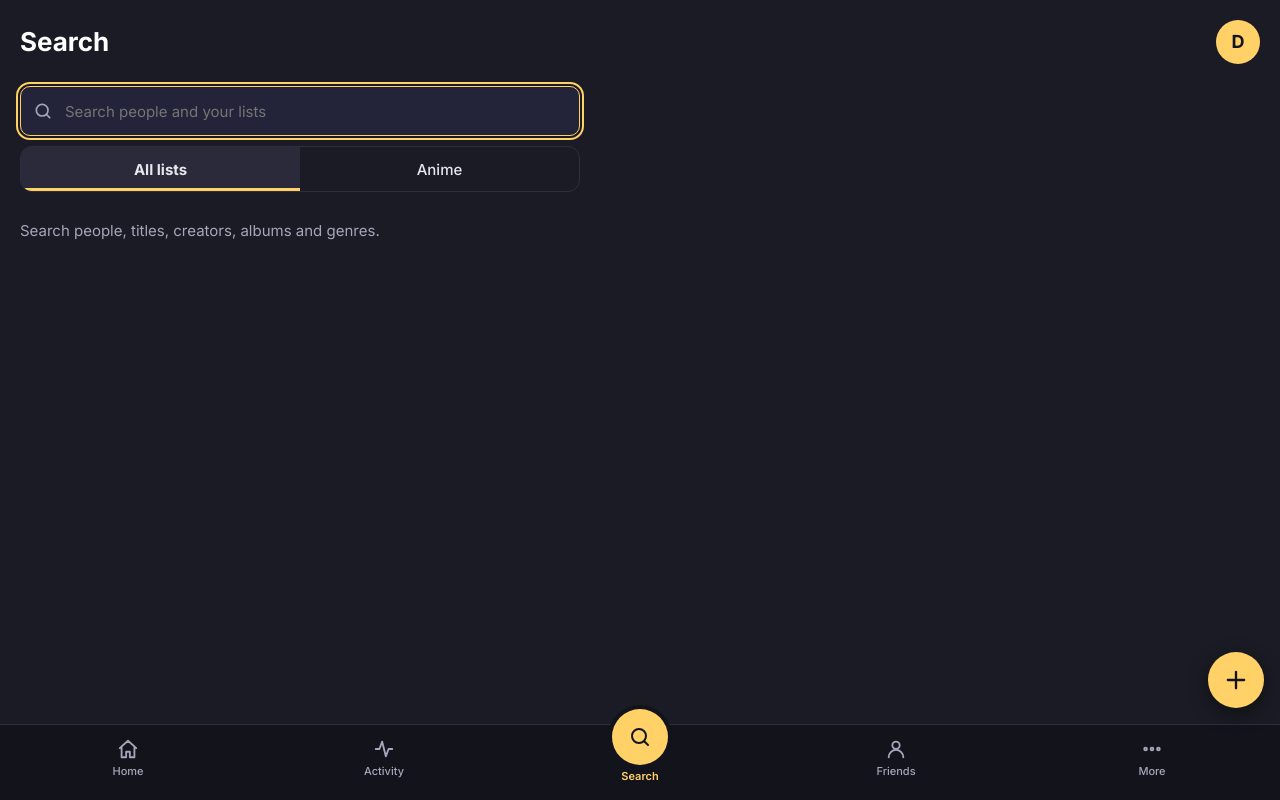
Test: SearchScreen › typing a username shows People with Add and a link to their profile
The width and height of the screenshot is (1280, 800).
Type "@re" into the search field labelled "Search people and your lists" at (300, 111), box top-left (20, 86), bottom-right (580, 136)
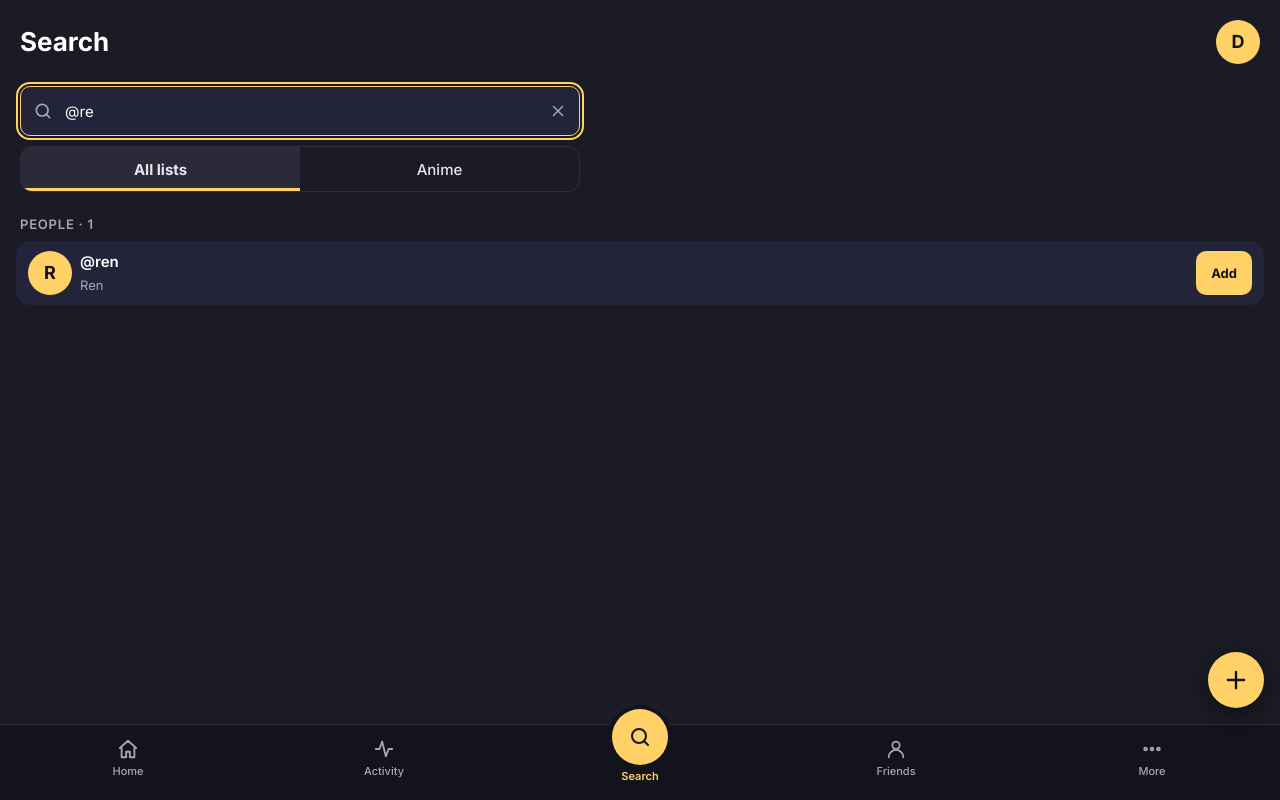
Check: the heading "People · 1" is shown, box top-left (20, 216), bottom-right (94, 232)
Click the button with aria-label "Add @ren" at (1224, 273), box top-left (1196, 251), bottom-right (1252, 295)
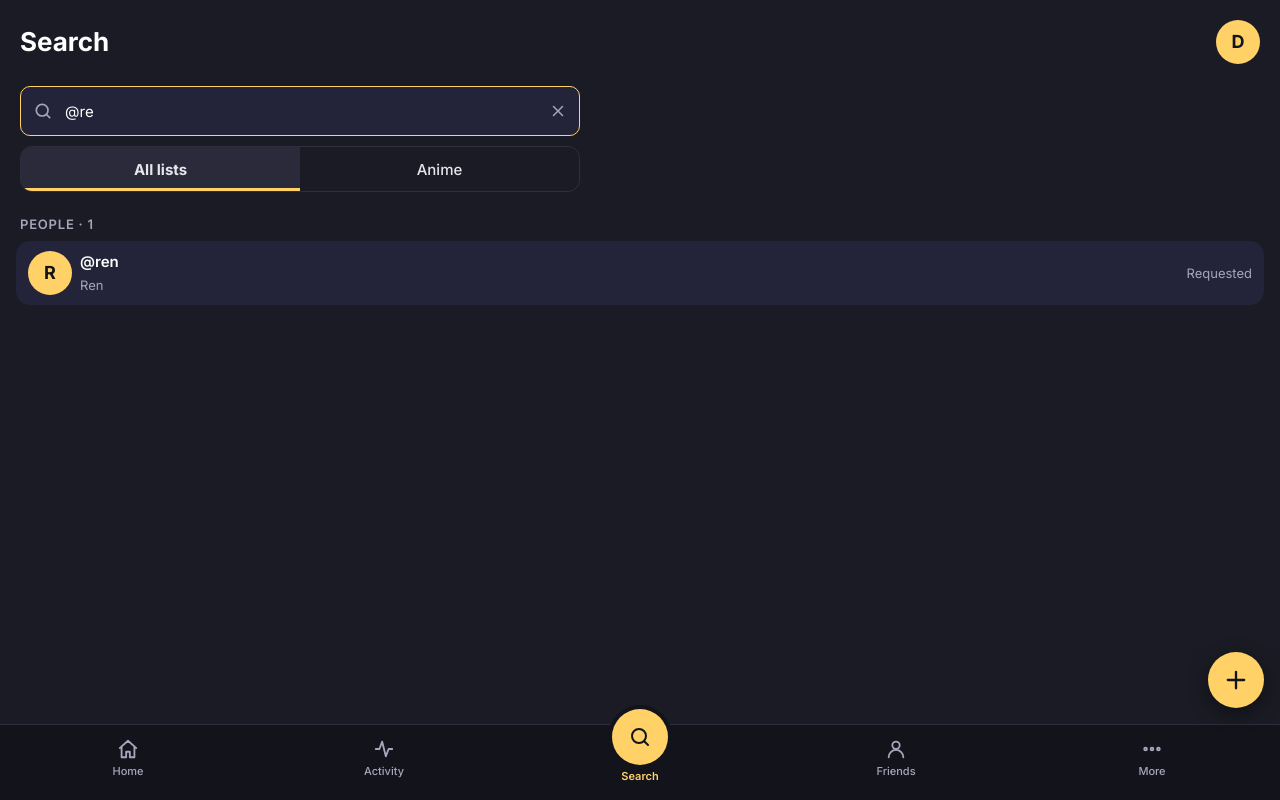
Check: the text "Requested" is shown, box top-left (1186, 264), bottom-right (1252, 282)
